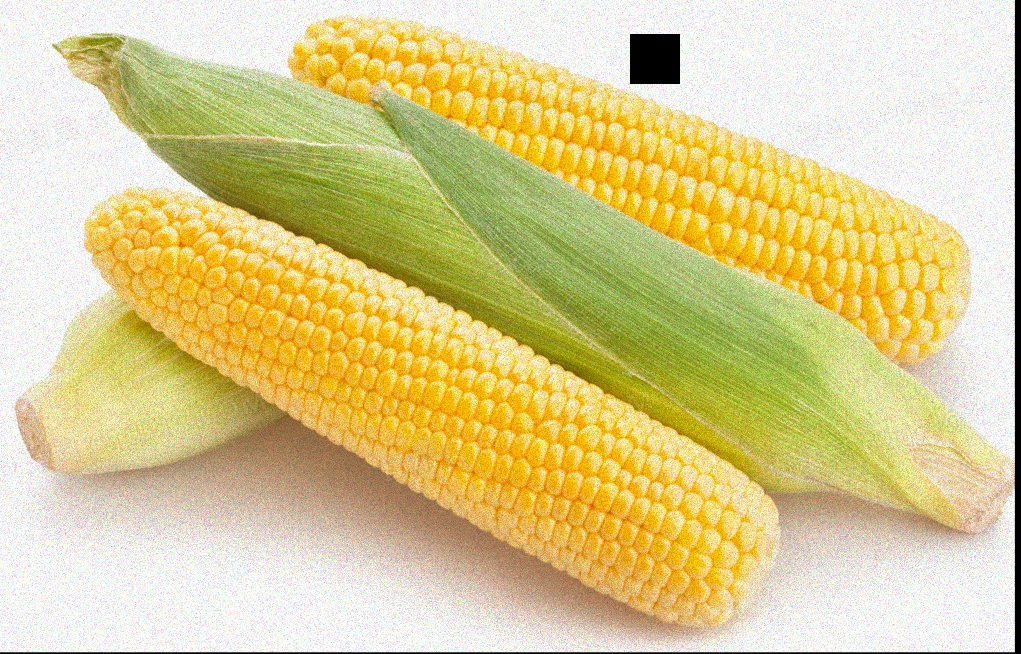corn: (80, 185, 780, 627), (287, 14, 971, 368)
corn_plant: (58, 44, 1013, 527)
